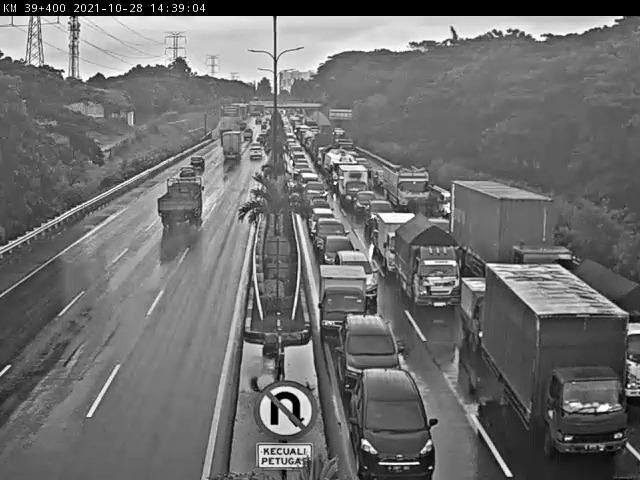big truck: (480, 259, 640, 470), (448, 169, 583, 301), (569, 251, 640, 402), (379, 165, 433, 208), (365, 198, 400, 232), (350, 186, 385, 218), (217, 129, 248, 160)
car: (348, 366, 441, 480), (337, 311, 405, 397), (335, 243, 380, 299), (323, 231, 357, 272), (310, 219, 350, 252), (438, 186, 463, 218), (310, 203, 339, 228), (303, 192, 334, 211), (175, 161, 196, 188), (184, 149, 206, 172), (247, 141, 266, 161)
small truck: (387, 214, 464, 311), (315, 258, 371, 340), (370, 205, 430, 266), (155, 173, 209, 229)
